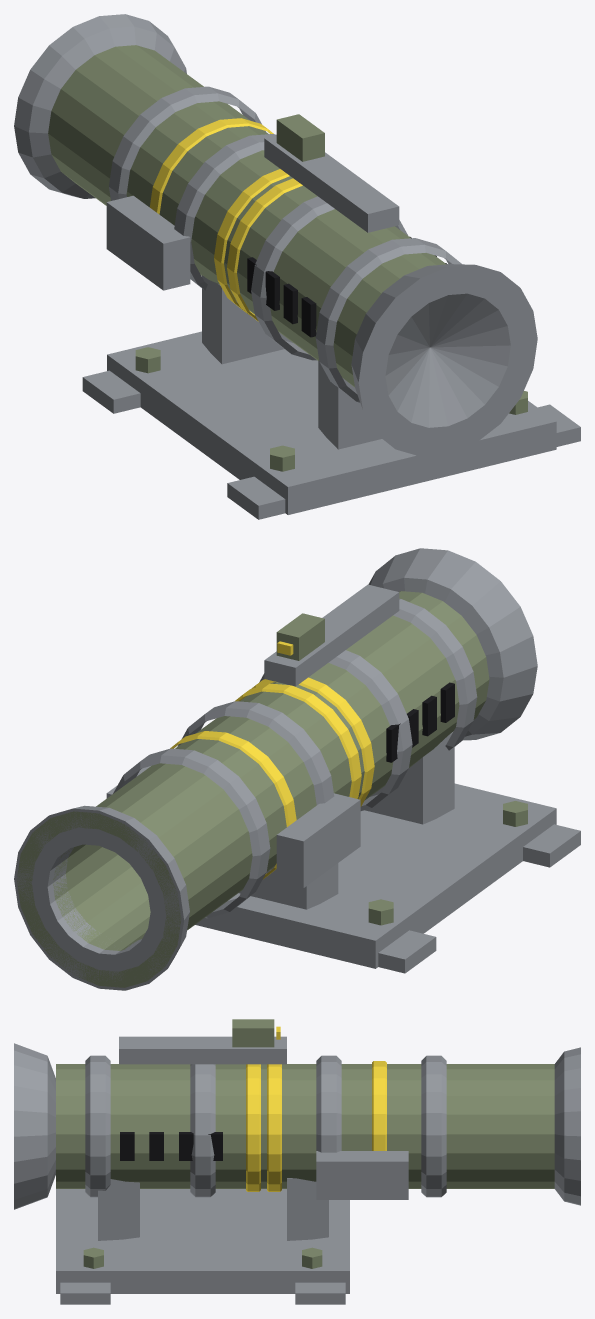
Rendered from item_launcher.glb.
3 renders of one model, top to bottom at view 1: azimuth 30°, elevation 25°; view 2: azimuth 150°, elevation 25°; view 3: azimuth 270°, elevation 25°, orthographic. The views are drawn at different scales.
Parts seen in each view (by area): view 1: item_launcher_Steel, item_launcher_Olive, item_launcher_Warn, item_launcher_Bore; view 2: item_launcher_Steel, item_launcher_Olive, item_launcher_Warn, item_launcher_Bore; view 3: item_launcher_Steel, item_launcher_Olive, item_launcher_Warn, item_launcher_Bore.
Boxes of the visible parts, x1=… form: item_launcher_Steel: x1=14, y1=14, x2=580, y2=519; item_launcher_Olive: x1=48, y1=45, x2=527, y2=471; item_launcher_Warn: x1=149, y1=118, x2=302, y2=321; item_launcher_Bore: x1=247, y1=236, x2=447, y2=337; item_launcher_Steel: x1=14, y1=548, x2=580, y2=990; item_launcher_Olive: x1=17, y1=591, x2=527, y2=987; item_launcher_Warn: x1=170, y1=641, x2=374, y2=879; item_launcher_Bore: x1=386, y1=682, x2=454, y2=762; item_launcher_Steel: x1=14, y1=1036, x2=580, y2=1304; item_launcher_Olive: x1=56, y1=1019, x2=554, y2=1268; item_launcher_Warn: x1=246, y1=1026, x2=386, y2=1191; item_launcher_Bore: x1=120, y1=1132, x2=222, y2=1160.
Size of the model in its own units: 0.72 by 0.57 by 1.35.
